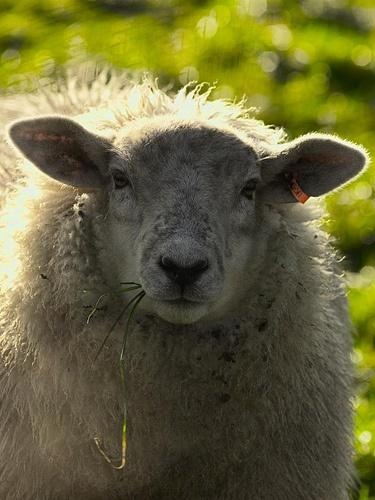sheep: (2, 69, 368, 499)
